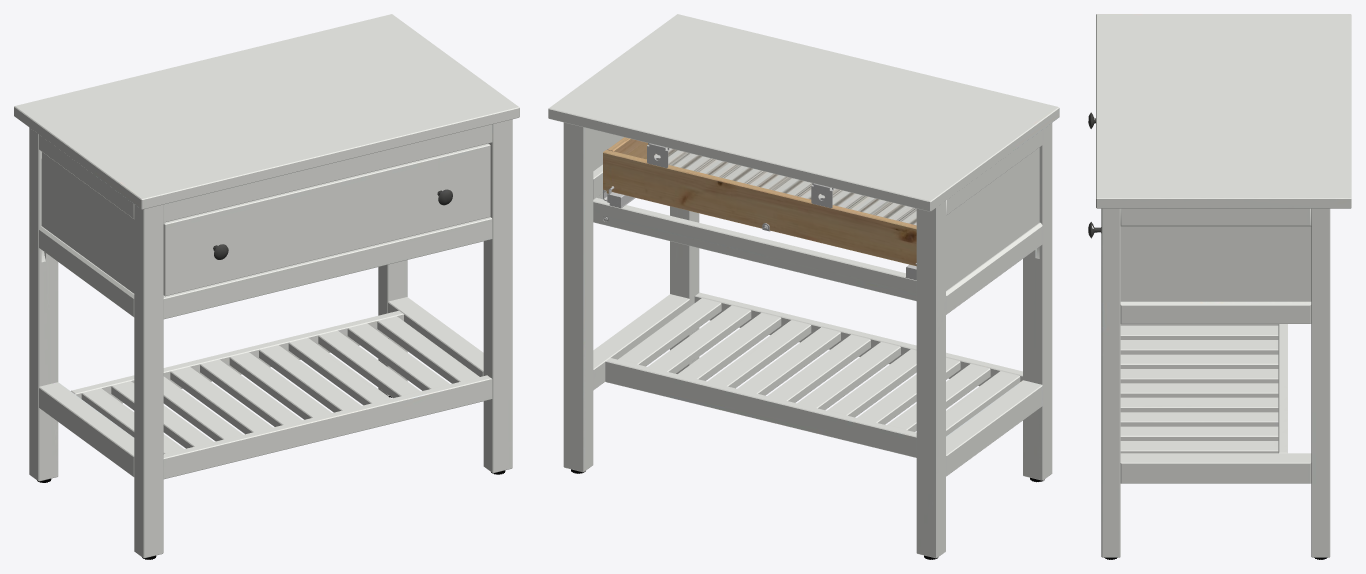
3 renders of one model, left to right at view 1: azimuth 30°, elevation 25°; view 2: azimuth 150°, elevation 25°; view 3: azimuth 270°, elevation 25°, orthographic.
Visible parts, largest first — view 1: model; view 2: model; view 3: model.
Boxes of the visible parts, x1,y1,x2,y2 form: model: [14, 14, 519, 559]; model: [548, 14, 1059, 559]; model: [1088, 14, 1351, 559].
Bounding box in the file's own units: 0.82 × 0.76 × 0.4946.
Materials: 1 (1 with a texture image).
